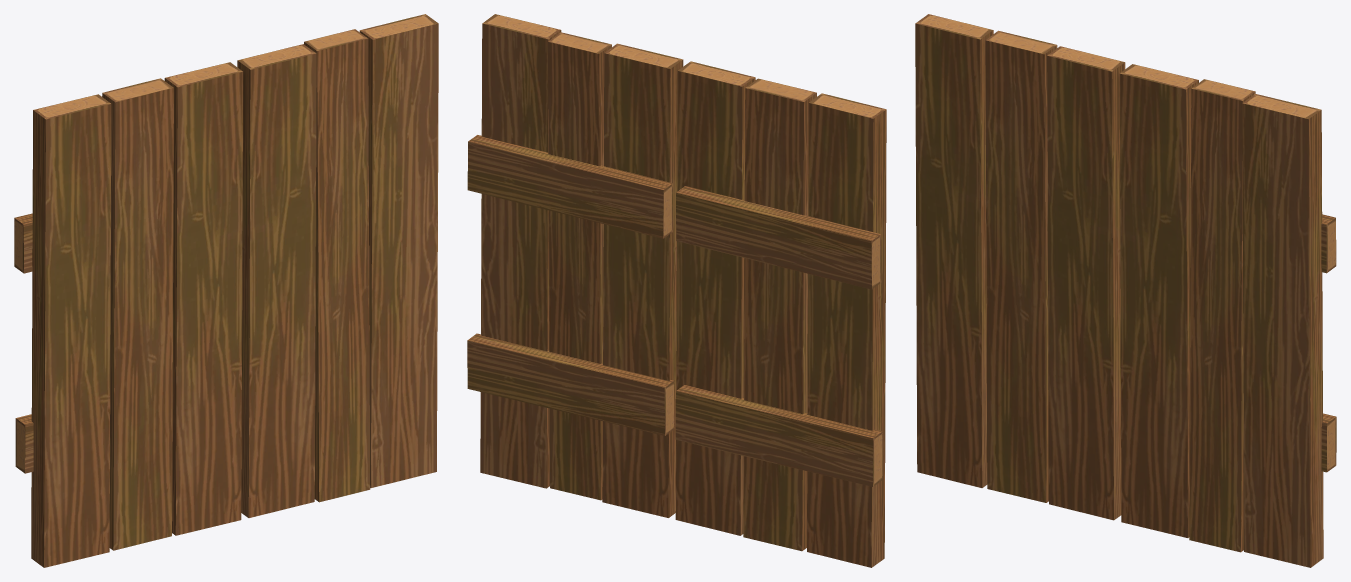
File: WindowShutters_Wide_Flat_Closed.gltf
3 renders of one model, left to right at view 1: azimuth 30°, elevation 25°; view 2: azimuth 150°, elevation 25°; view 3: azimuth 330°, elevation 25°, orthographic.
Visible parts, largest first — view 1: WindowShutters_Wide_Flat_Closed; view 2: WindowShutters_Wide_Flat_Closed; view 3: WindowShutters_Wide_Flat_Closed.
Boxes of the visible parts, x1,y1,x2,y2 form: WindowShutters_Wide_Flat_Closed: (14, 14, 438, 567); WindowShutters_Wide_Flat_Closed: (467, 14, 886, 567); WindowShutters_Wide_Flat_Closed: (915, 14, 1336, 567).
Size of the model in its own units: 1.35 by 1.42 by 0.1358.
Materials: 1 (1 with a texture image).
